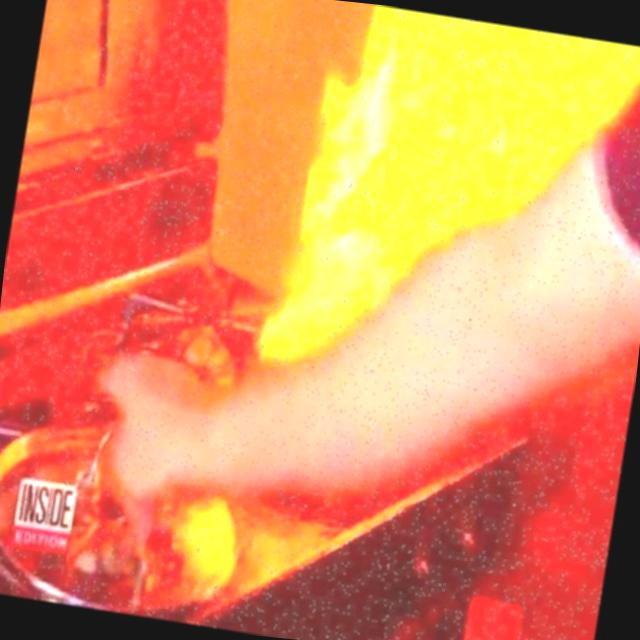fire: (257, 0, 626, 422)
